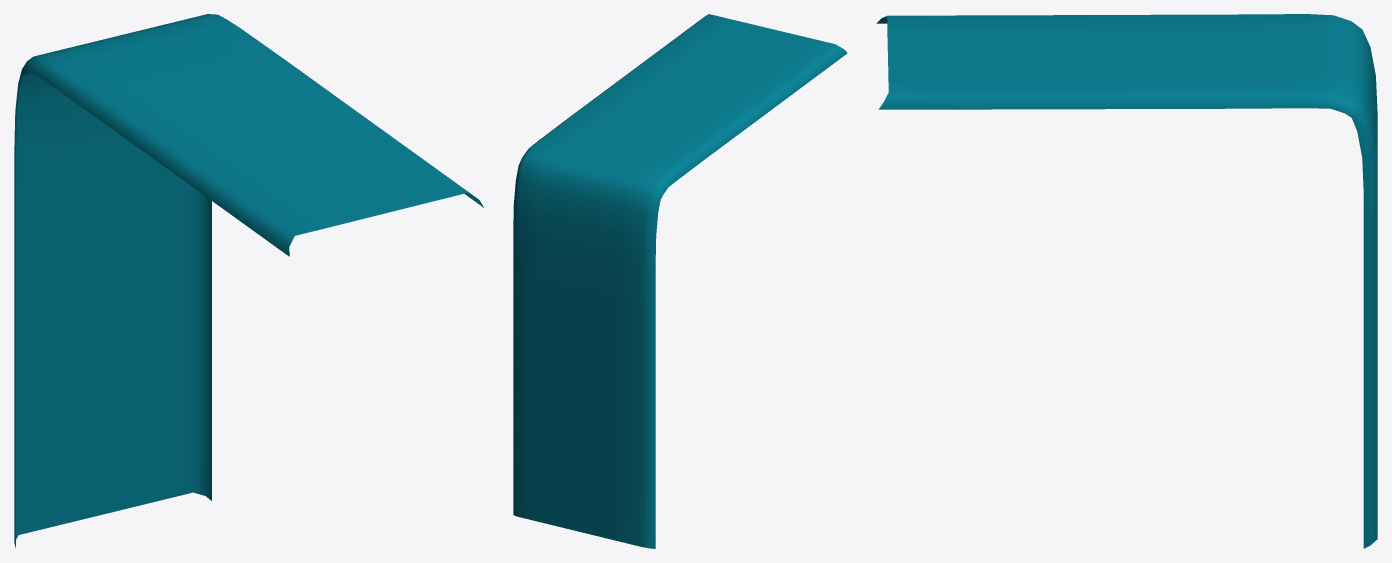
The model's file is SC_PuBu.fbx.
3 views of the same model, side by side, from view 1: azimuth 30°, elevation 25°; view 2: azimuth 150°, elevation 25°; view 3: azimuth 270°, elevation 25° (orthographic). The views are drawn at different scales.
Visible parts, largest first — view 1: SC_PuBu; view 2: SC_PuBu; view 3: SC_PuBu.
Part boxes in pixels (x1,y1,x2,y2): SC_PuBu: [14, 14, 483, 548]; SC_PuBu: [513, 14, 847, 548]; SC_PuBu: [876, 14, 1377, 548].
Size of the model in its own units: 365 by 879 by 881.
